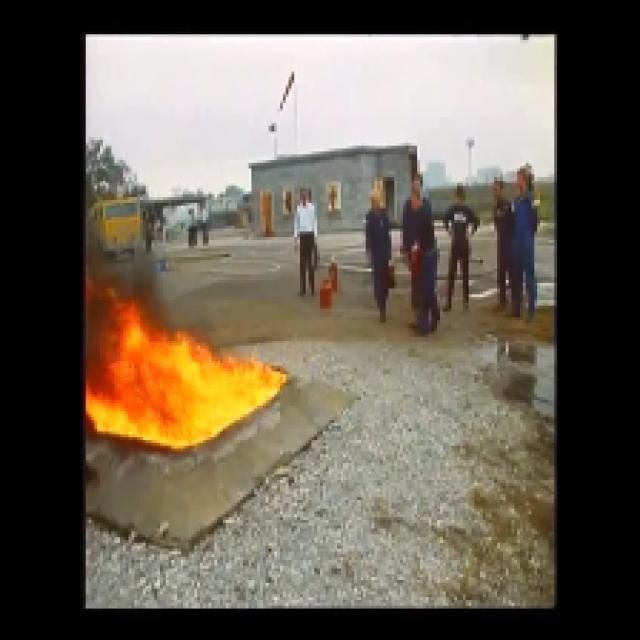fire: (105, 324, 273, 446)
